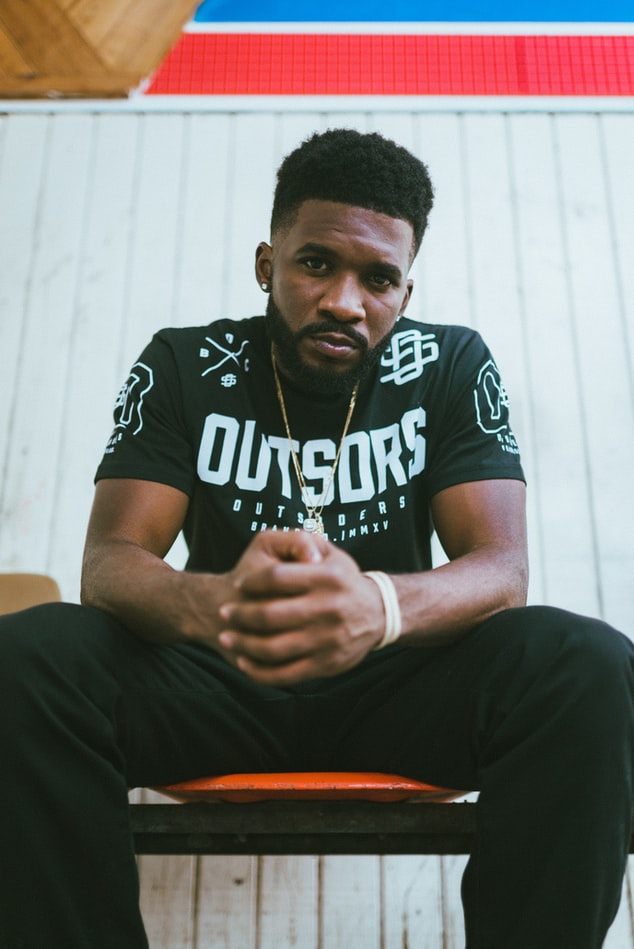beard: (260, 295, 409, 394)
